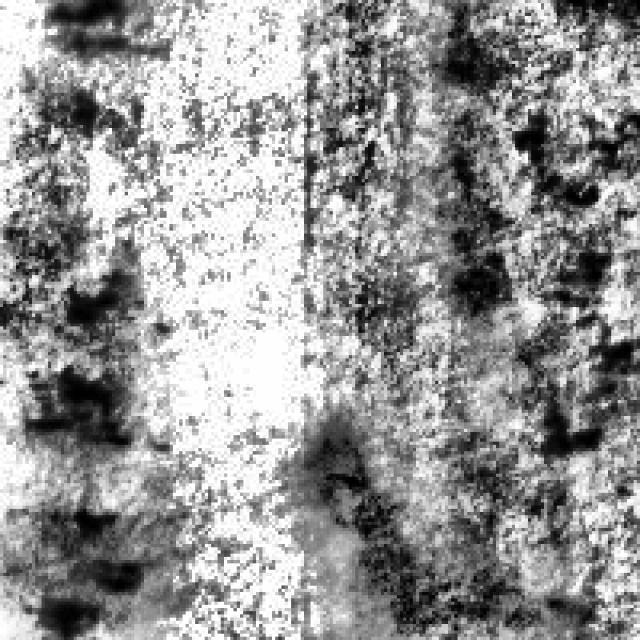Patches: (528, 246, 624, 461)
Scratches: (304, 403, 573, 627)
